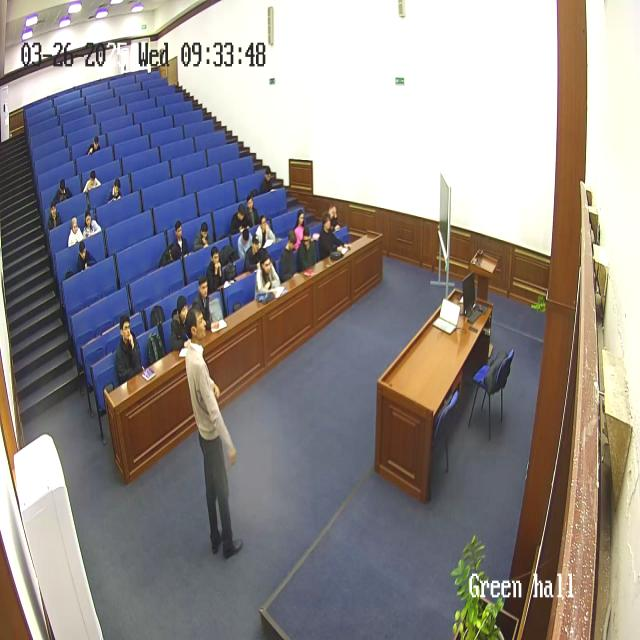person: (184, 309, 244, 559), (115, 314, 144, 386), (194, 276, 221, 334), (254, 251, 280, 301), (169, 295, 191, 353), (278, 230, 299, 284), (318, 212, 341, 260), (206, 243, 228, 293), (297, 222, 318, 274), (243, 232, 263, 274), (170, 219, 190, 261), (256, 213, 276, 251), (230, 200, 250, 236), (325, 203, 342, 244), (236, 222, 253, 262), (74, 241, 94, 275), (82, 208, 102, 239), (194, 220, 212, 253), (293, 209, 307, 251), (245, 194, 261, 228), (67, 216, 84, 248), (262, 165, 280, 193), (55, 178, 73, 204), (46, 200, 62, 229), (83, 170, 101, 194), (108, 178, 122, 202), (86, 134, 101, 156)
